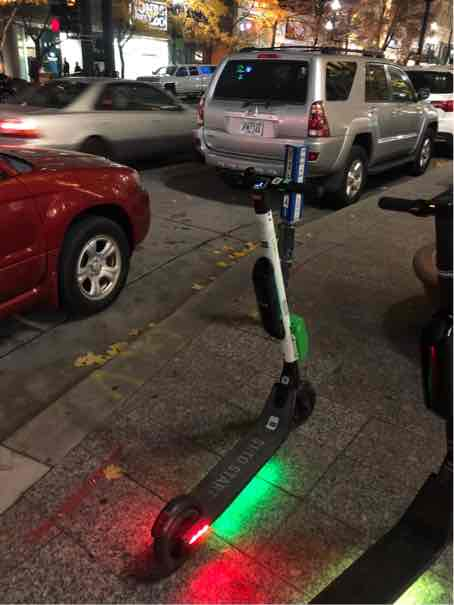scooter: (145, 150, 338, 587)
